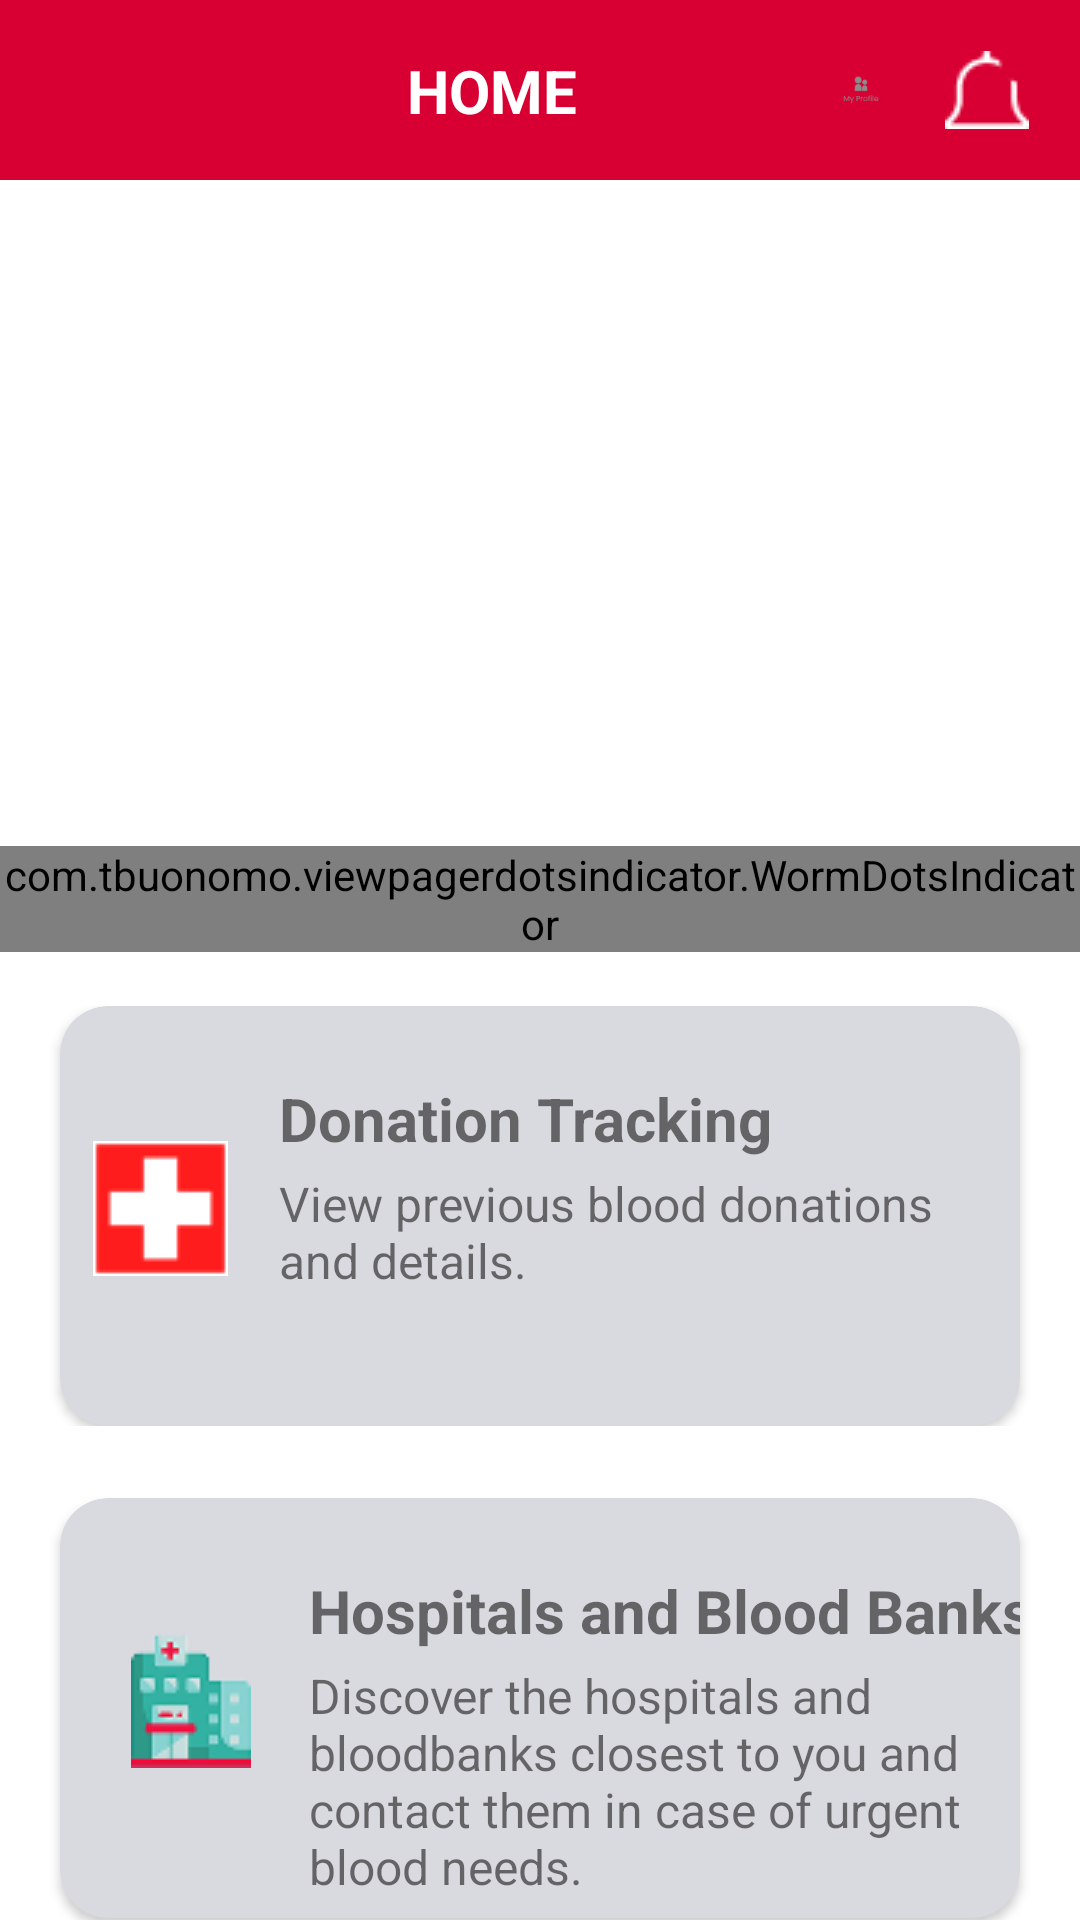

Locate icon controls on the screen. Image size 1080*1920, boxes as (x1, y1, x2, y2).
Notification: (945, 51, 1029, 129)
